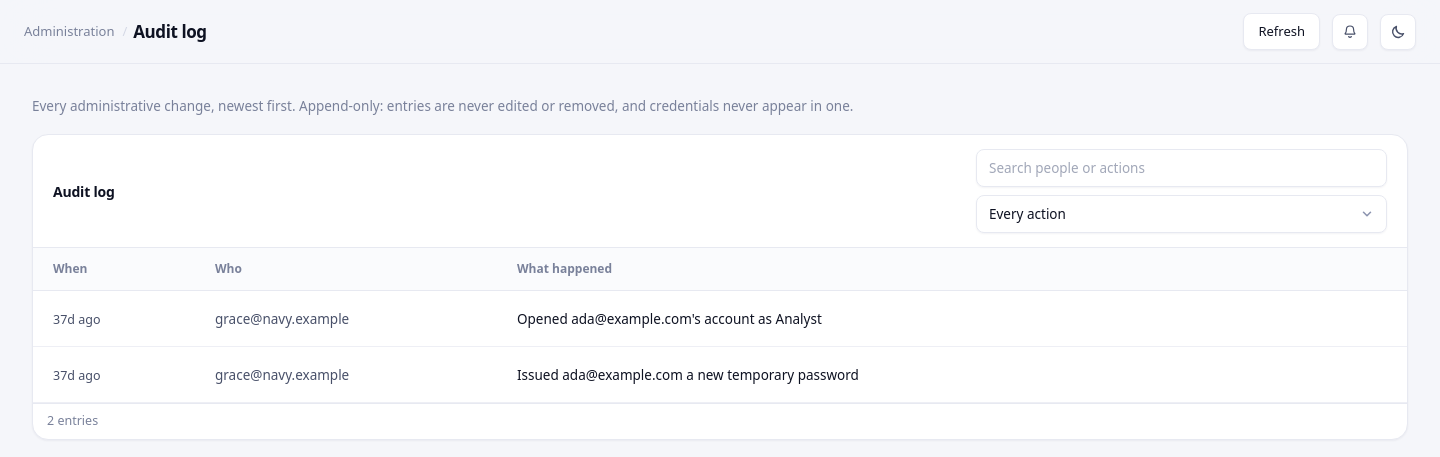
reading an entry › filters by action
The width and height of the screenshot is (1440, 457).
Expected: the text "Opened ada@example.com's account as Analyst" is shown, [517,310,822,328]
Select "Reset password" in the dropdown named "Filter by action" at [1182, 214], box [976,195,1387,234]
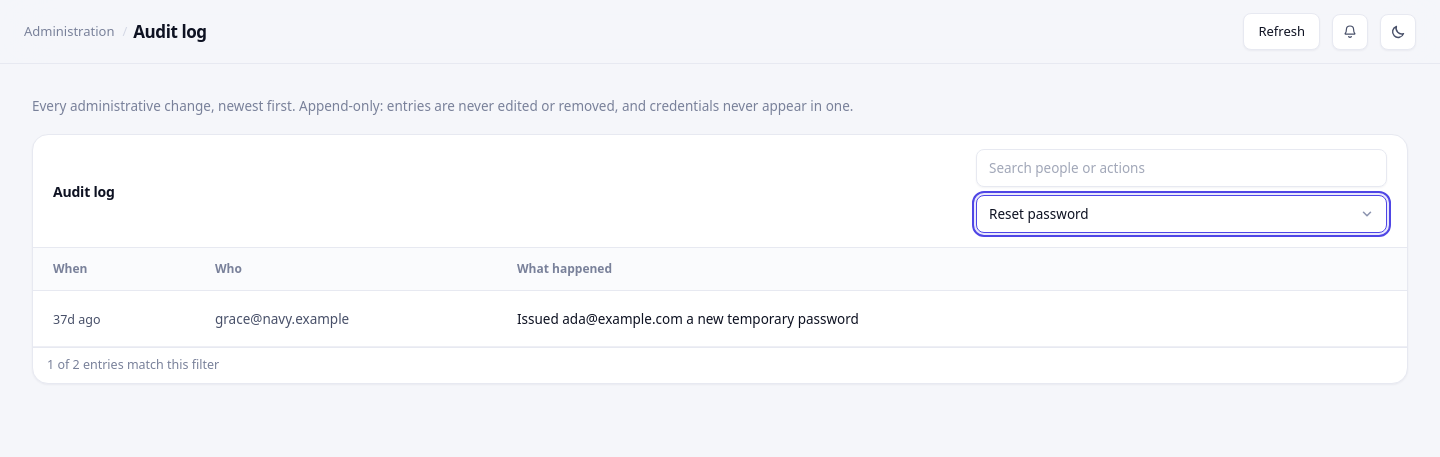
Expected: the text "Issued ada@example.com a new temporary password" is shown, [517,310,859,328]
Expected: the text "Opened ada" is gone
Expected: the text "1 of 2 entries match this filter" is shown, [47,356,219,373]
